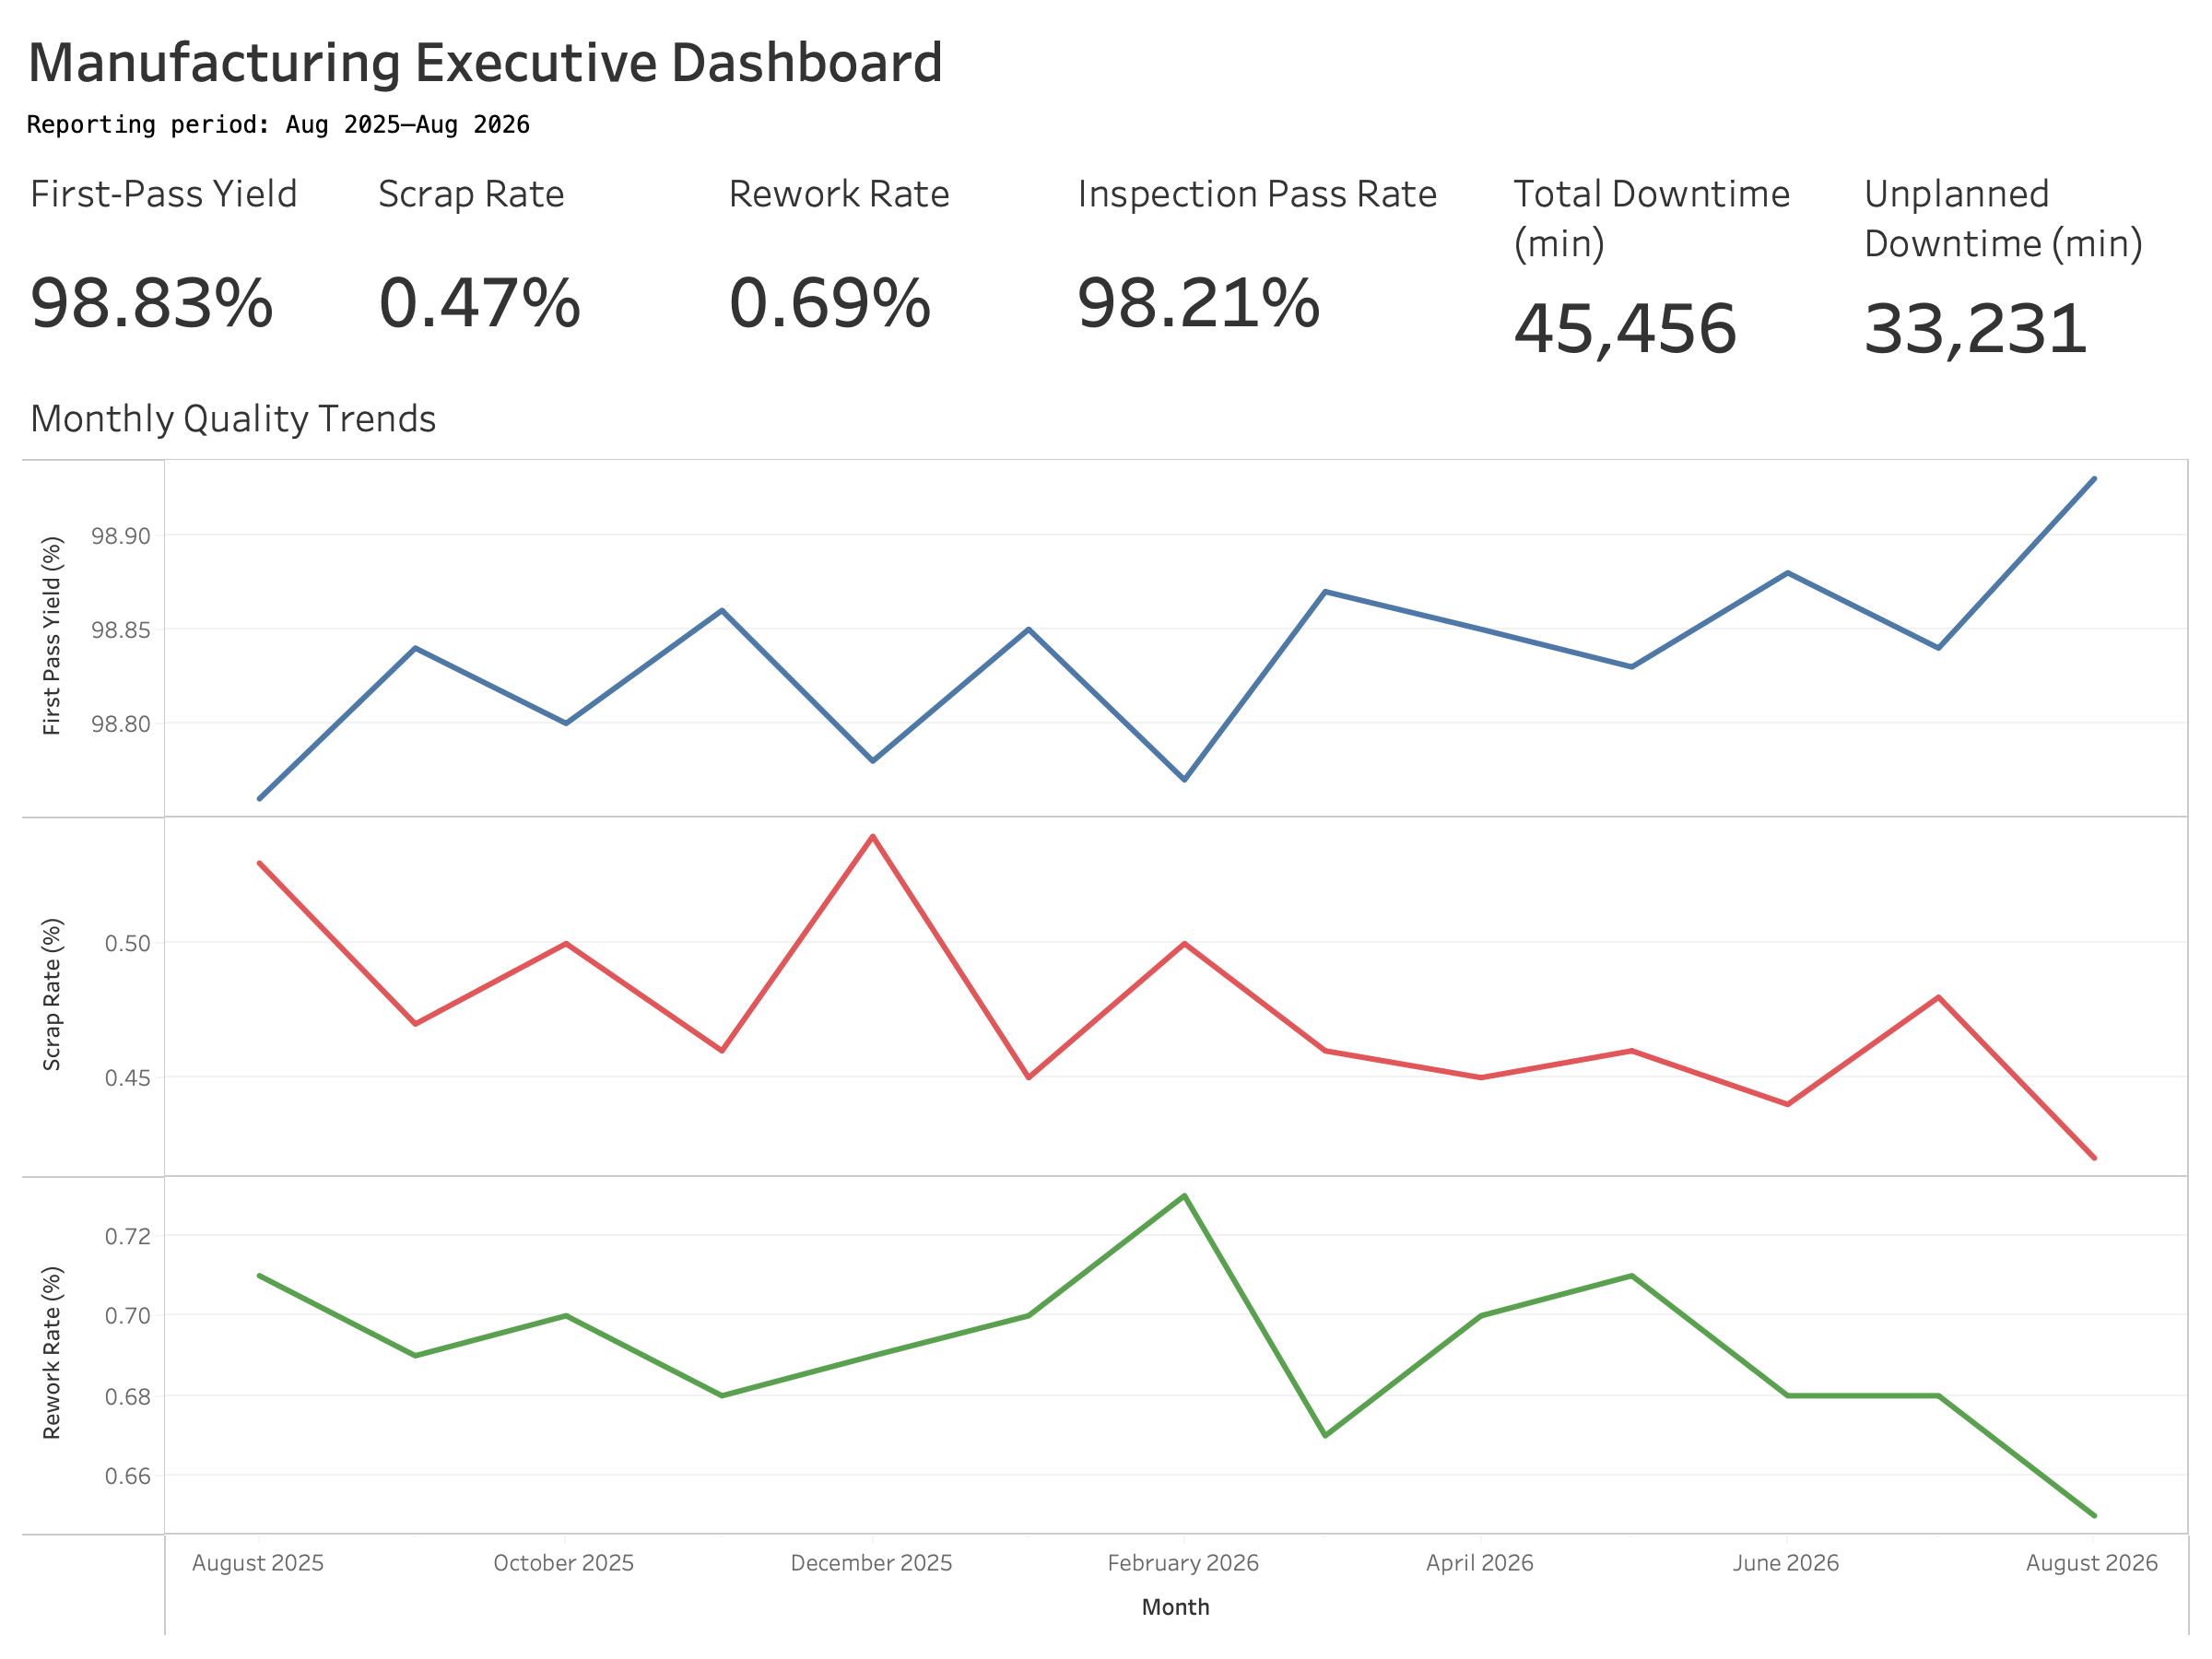

The dashboard page shown, as its layout file describes it:
{"tool":"tableau","page":{"name":"Manufacturing Executive Dashboard","canvas":[1200,900],"ordinal":0},"visuals":[{"type":"title","box":[8,8,1184,48]},{"type":"text","box":[8,56,1184,24]},{"type":"worksheet","title":"First-Pass Yield","mark":"Automatic","box":[8,80,189.4,122.2]},{"type":"worksheet","title":"Scrap Rate","mark":"Automatic","box":[197.4,80,189.4,122.2]},{"type":"worksheet","title":"Rework Rate","mark":"Automatic","box":[386.8,80,189.4,122.2]},{"type":"worksheet","title":"Inspection Pass Rate","mark":"Automatic","box":[576.2,80,237,122.2]},{"type":"worksheet","title":"Total Downtime","mark":"Automatic","box":[813.2,80,189.4,122.2]},{"type":"worksheet","title":"Unplanned Downtime","mark":"Automatic","box":[1002.6,80,189.4,122.2]},{"type":"worksheet","title":"Monthly Quality Trends","mark":"Automatic","rows":["first_pass_yield_pct","scrap_rate_pct","rework_rate_pct"],"cols":["month"],"box":[8,202.2,1184,689.8]}]}

Visuals, with their boxes in screenshot pixels (x1, y1, x2, y2), scaled from the page's 1200x900 canvas onto the 2212x1659 screenshot:
title: 15, 15, 2197, 103
text: 15, 103, 2197, 147
"First-Pass Yield" worksheet: 15, 147, 364, 372
"Scrap Rate" worksheet: 364, 147, 713, 372
"Rework Rate" worksheet: 713, 147, 1062, 372
"Inspection Pass Rate" worksheet: 1062, 147, 1499, 372
"Total Downtime" worksheet: 1499, 147, 1848, 372
"Unplanned Downtime" worksheet: 1848, 147, 2197, 372
"Monthly Quality Trends" worksheet: 15, 372, 2197, 1644
